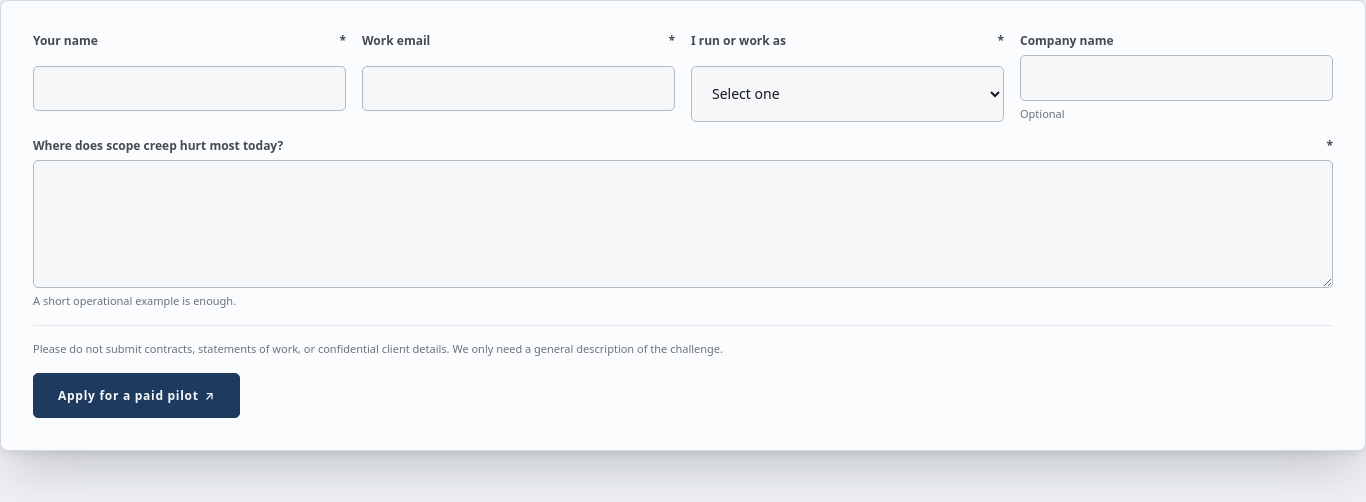
Scenario: LeadForm › validates required fields before making a request
Click the button "Apply for a paid pilot ↗" at (136, 395), box [33, 372, 240, 418]
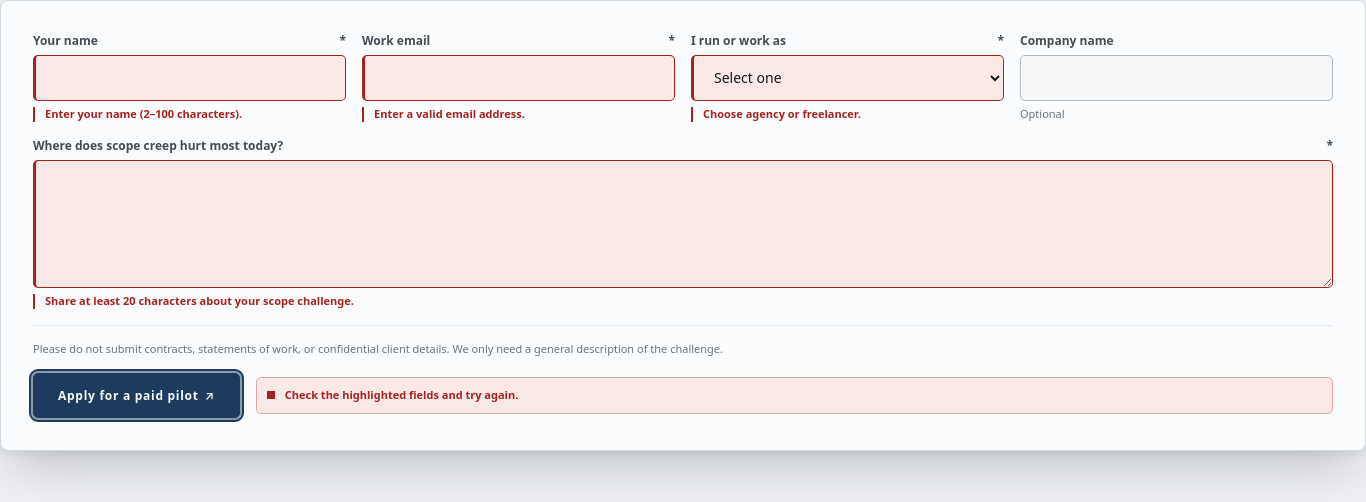
Result: the text "Enter your name (2–100 characters)." is shown at [33, 107, 346, 122]
Result: the text "Enter a valid email address." is shown at [362, 107, 675, 122]
Result: the text "Choose agency or freelancer." is shown at [691, 107, 1004, 122]
